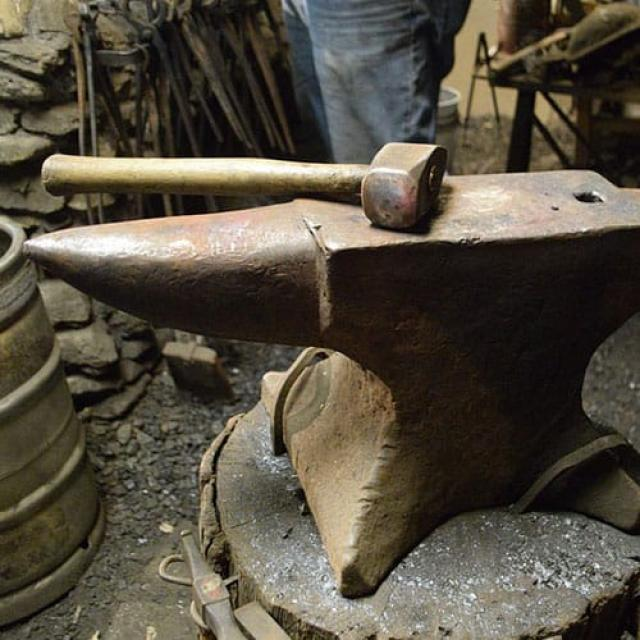hammer: (32, 132, 454, 233)
